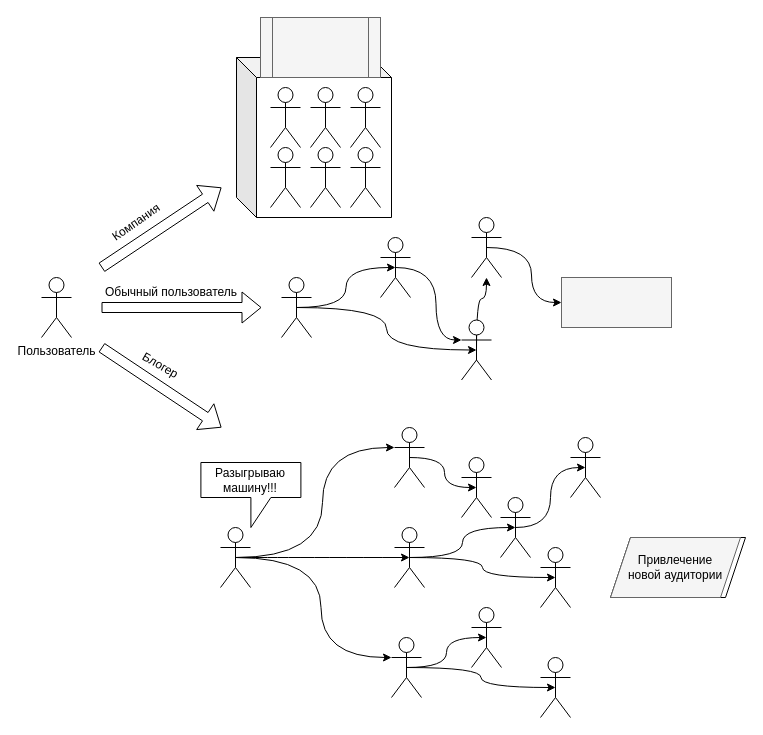
This 763x735 diagram has some shape labels left out. Each missing label, with the centre of its shape:
Заключение дружеских споров: the point at 616,302
Организация крупных соревнований: the point at 320,47
